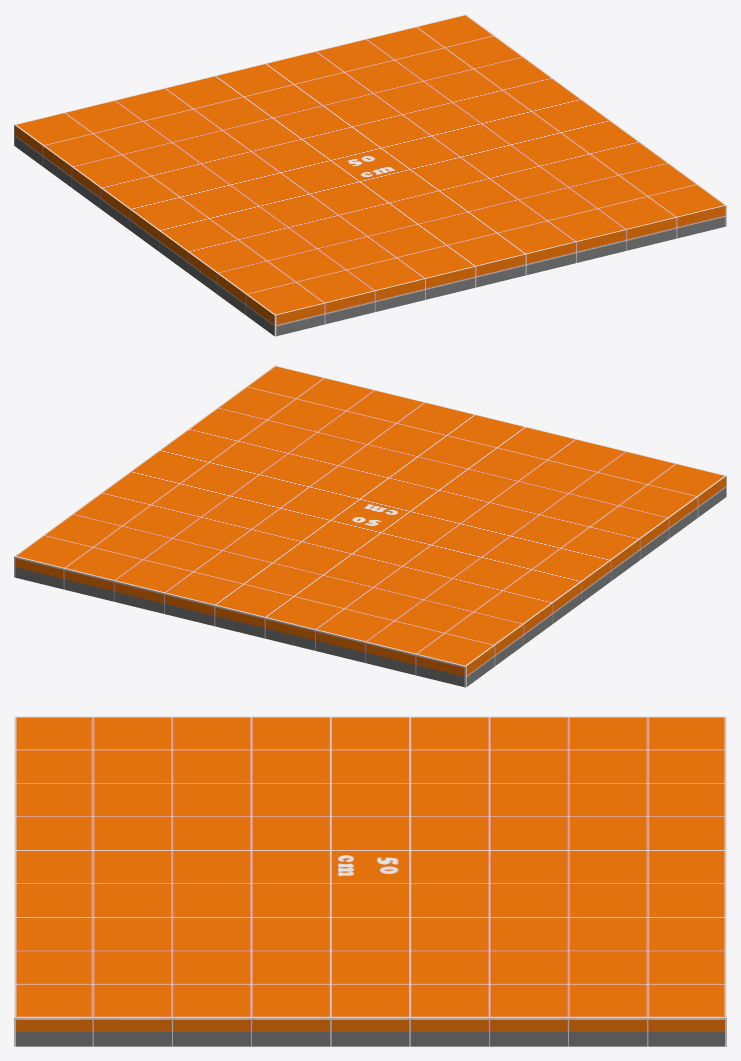
Rendered from casa_suelo_01.fbx.
3 renders of one model, top to bottom at view 1: azimuth 30°, elevation 25°; view 2: azimuth 150°, elevation 25°; view 3: azimuth 270°, elevation 25°, orthographic. The views are drawn at different scales.
Visible parts, largest first — view 1: casa_suelo_01; view 2: casa_suelo_01; view 3: casa_suelo_01.
Boxes of the visible parts, x1=… form: casa_suelo_01: x1=14, y1=14, x2=726, y2=336; casa_suelo_01: x1=14, y1=365, x2=726, y2=687; casa_suelo_01: x1=14, y1=716, x2=726, y2=1046.
Bounding box in the file's own units: 450 × 20 × 450.
